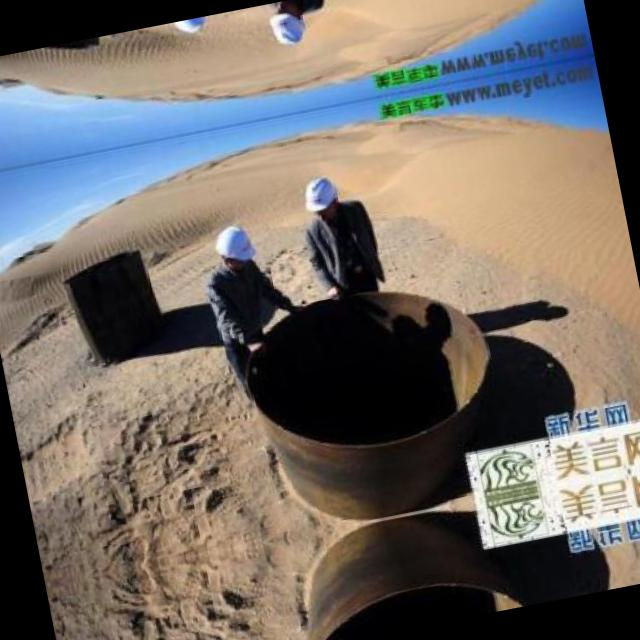helmet: (210, 220, 262, 276), (297, 165, 343, 224), (265, 0, 312, 55), (170, 15, 216, 38)
